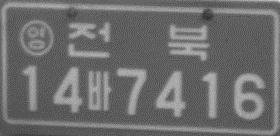1: (195, 71, 226, 120), (17, 64, 47, 111)
4: (154, 70, 186, 117), (52, 66, 83, 112)
6: (233, 71, 265, 121)
7: (116, 67, 147, 116)
바: (85, 69, 112, 111)
영: (18, 19, 54, 57)
전북_D: (66, 21, 209, 62)
